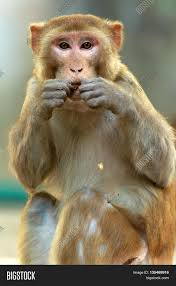monkey: (12, 8, 148, 267)
